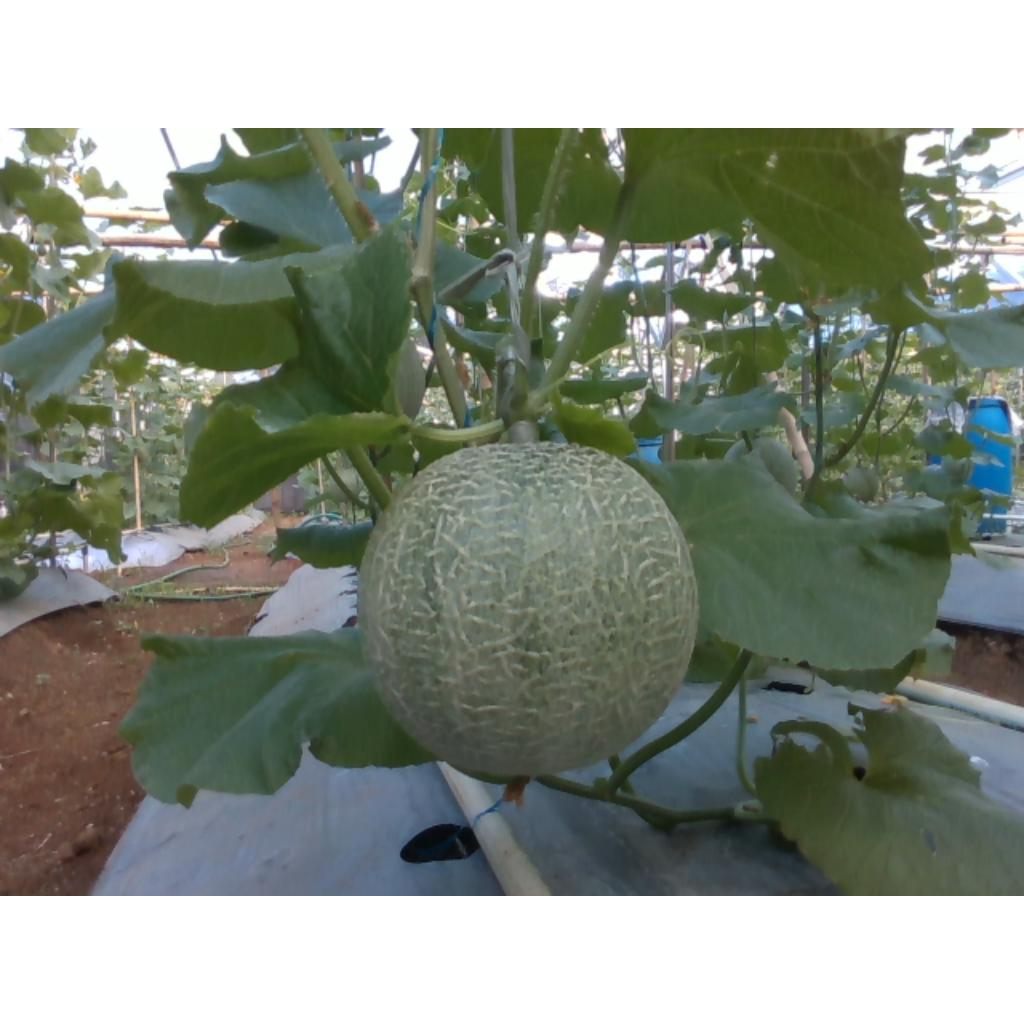melon: (360, 443, 699, 777)
